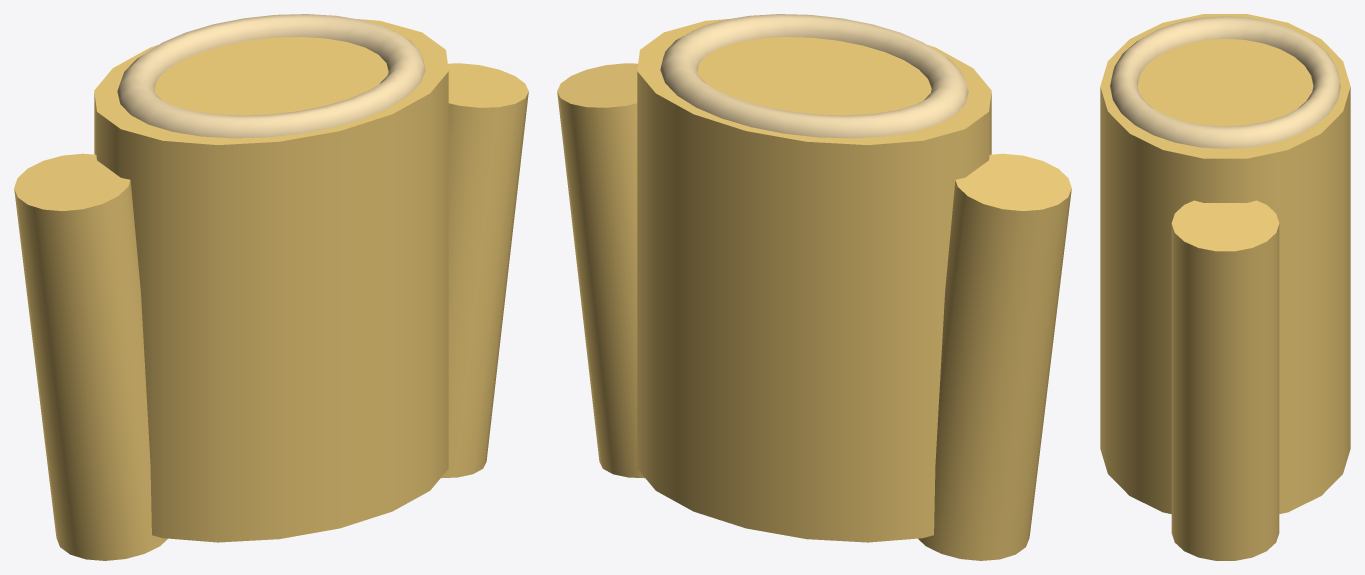
Rendered from VM-DAM-004.glb.
The picture shows the model from 3 angles, left to right: view 1: azimuth 30°, elevation 25°; view 2: azimuth 150°, elevation 25°; view 3: azimuth 270°, elevation 25°; orthographic projection. The views are drawn at different scales.
Parts seen in each view (by area): view 1: Blusa Seda Neón; view 2: Blusa Seda Neón; view 3: Blusa Seda Neón.
Boxes of the visible parts, <box> form: Blusa Seda Neón: <box>14,14,528,560</box>; Blusa Seda Neón: <box>557,14,1071,560</box>; Blusa Seda Neón: <box>1100,14,1350,560</box>.
Size of the model in its own units: 0.5723 by 0.4767 by 0.2736.
